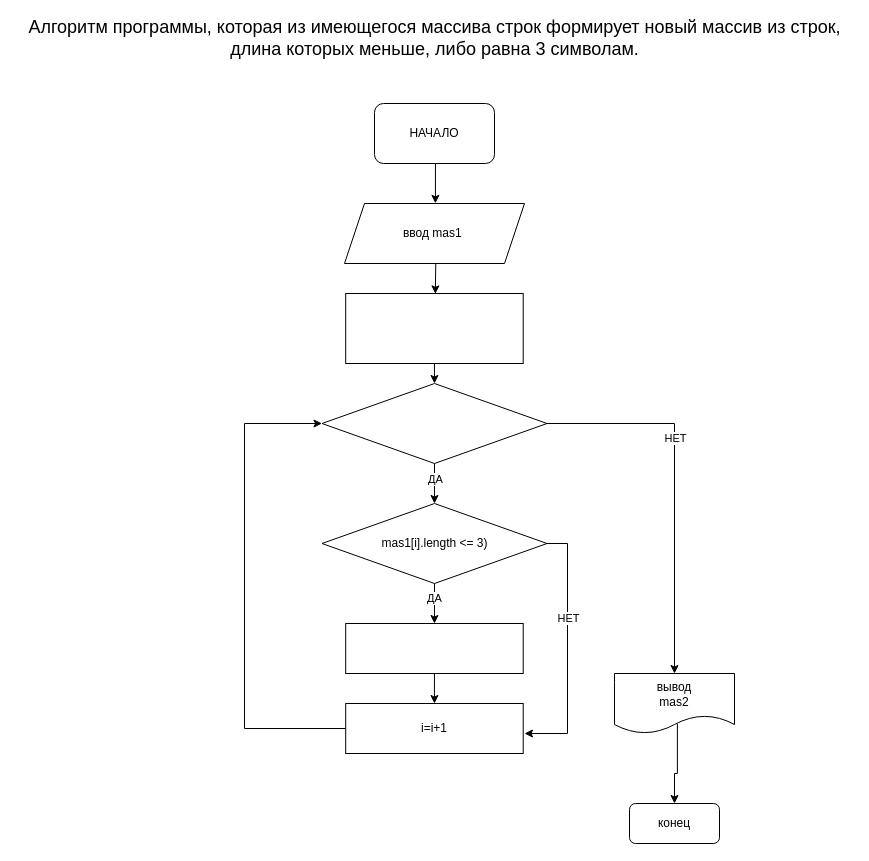
The diagram is 869 pixels wide and 861 high, and some of its shapes have lost their labels. Each missing label, with the box of its shape:
i < N: (321, 382, 547, 464)
mas2[count] = mas1[i] count=count+1: (345, 622, 523, 674)
N=mas1.lenght mas2[N] count = 0 i=0: (345, 292, 523, 364)
